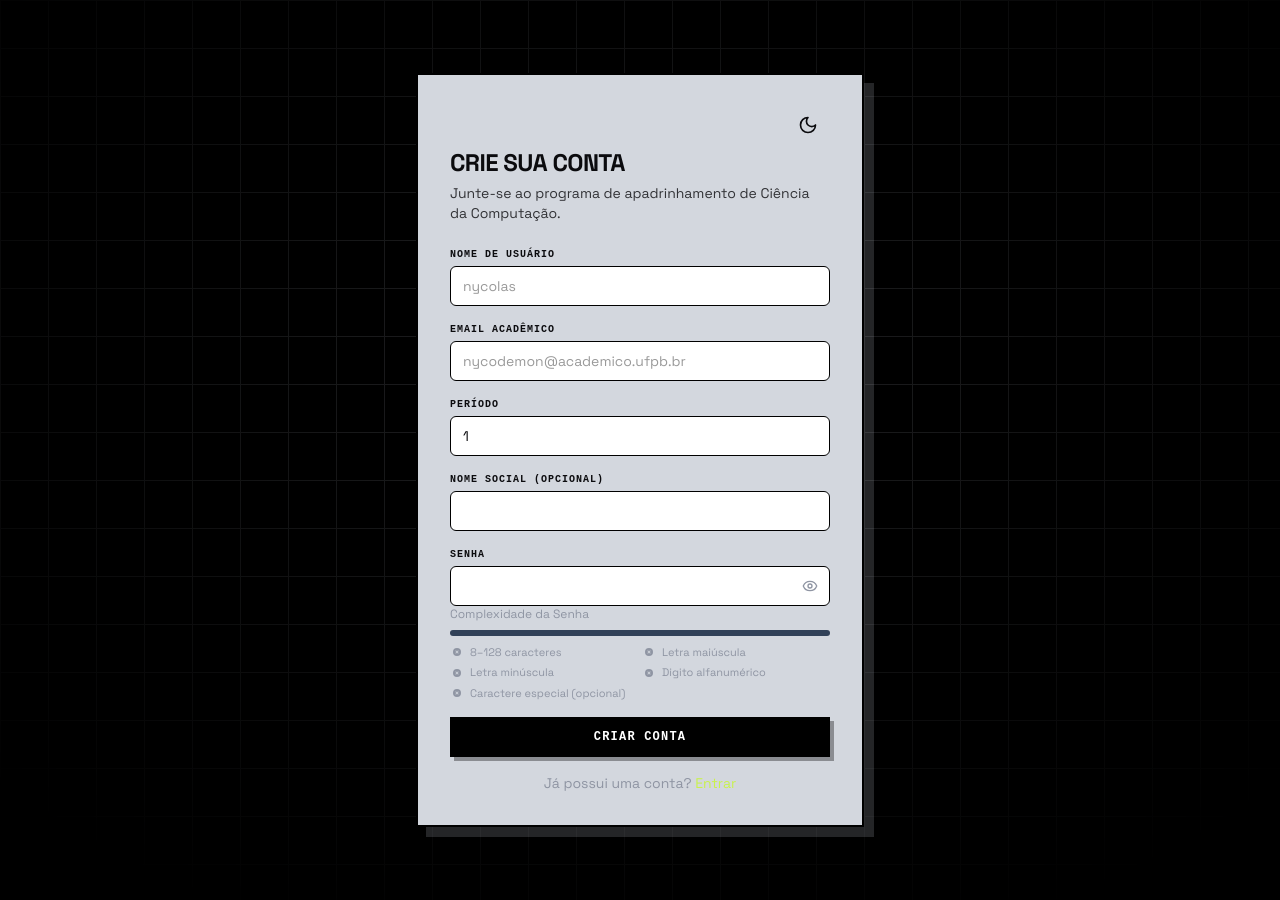
Test: RegisterPage › surfaces validation errors for an invalid email
Type "new_student" into the field labelled "Nome de usuário" at (640, 286), box [450,266,830,306]
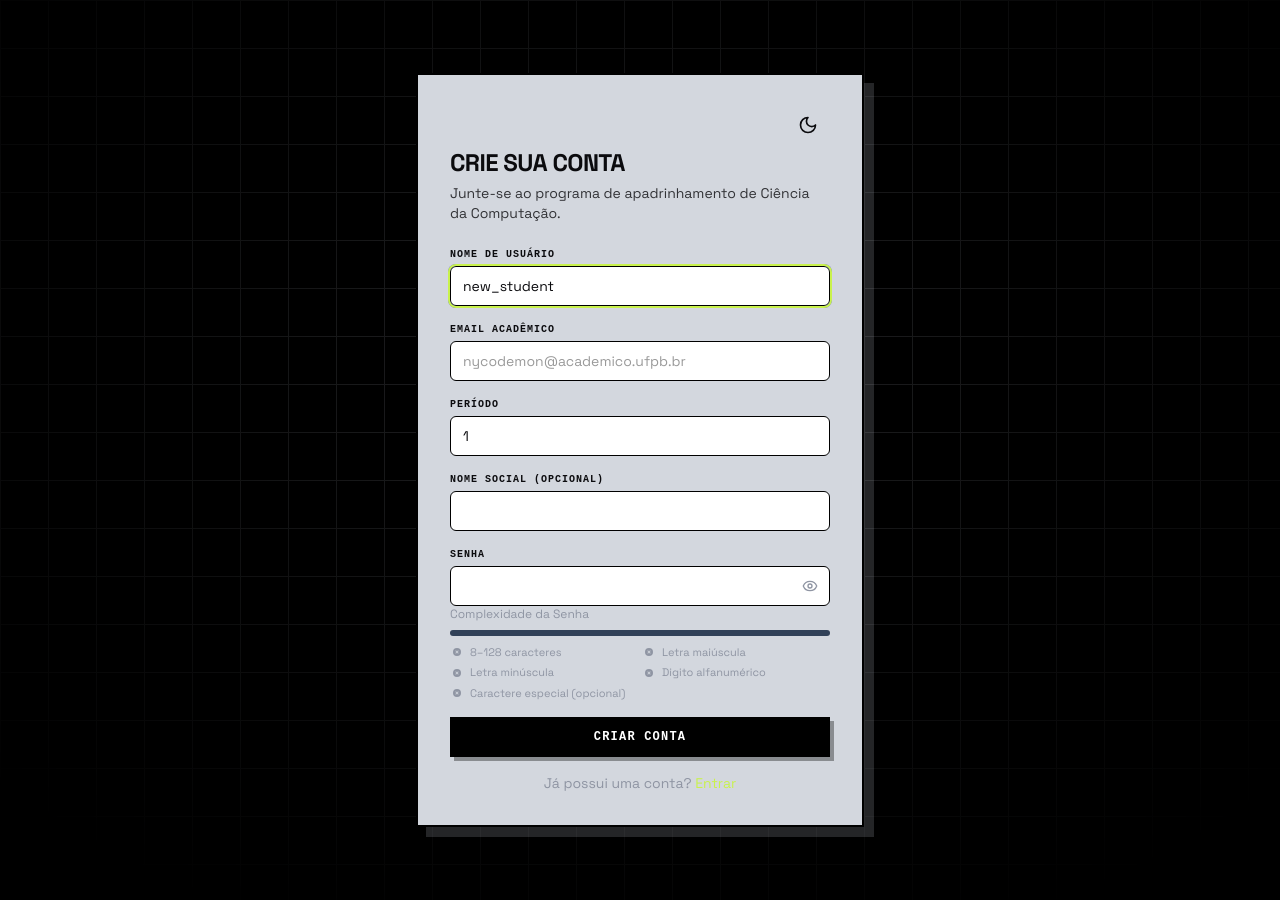
Type "not-an-email" into the field labelled "Email Acadêmico" at (640, 361), box [450,341,830,381]
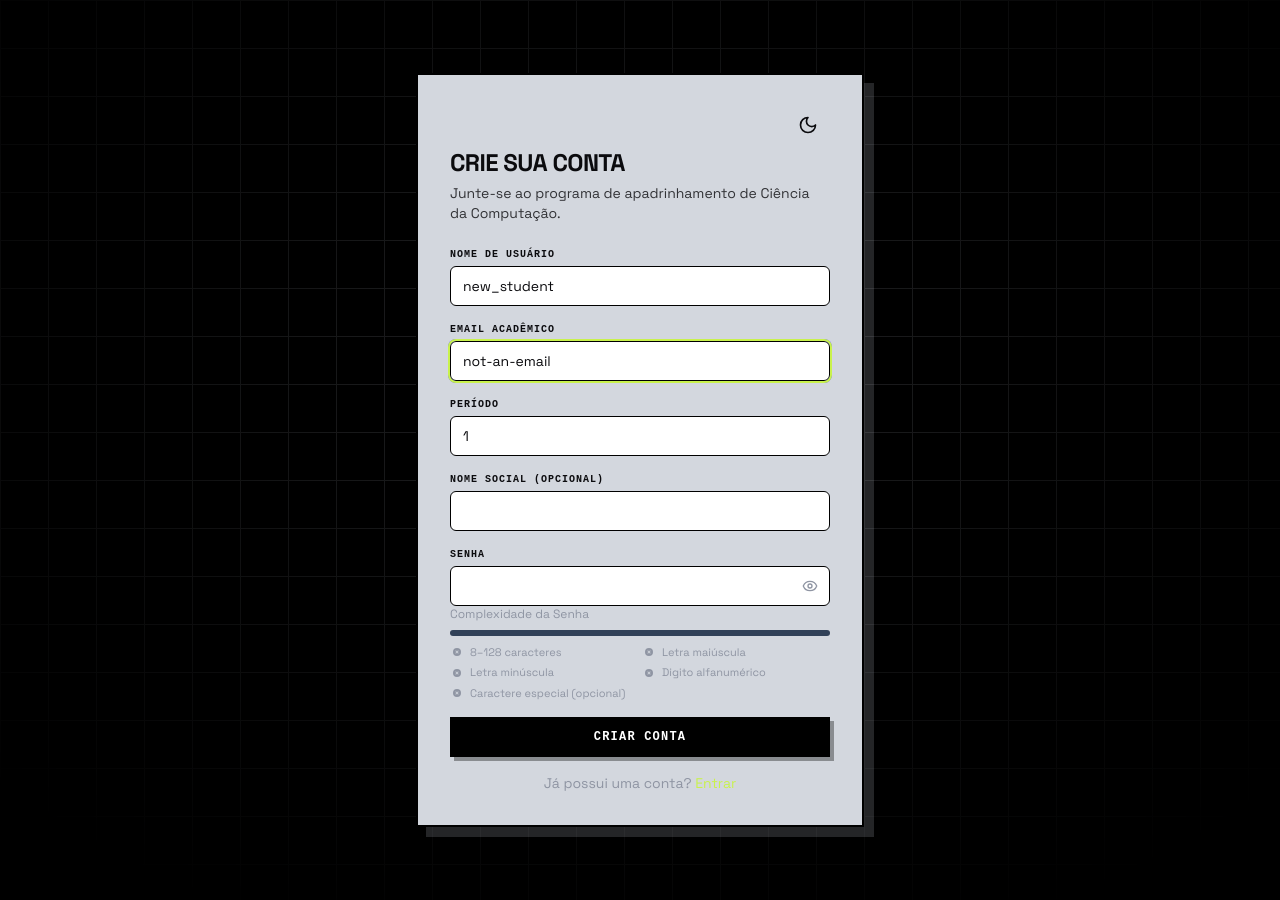
Type "short" into the password field labelled "Senha" at (640, 586), box [450,566,830,606]
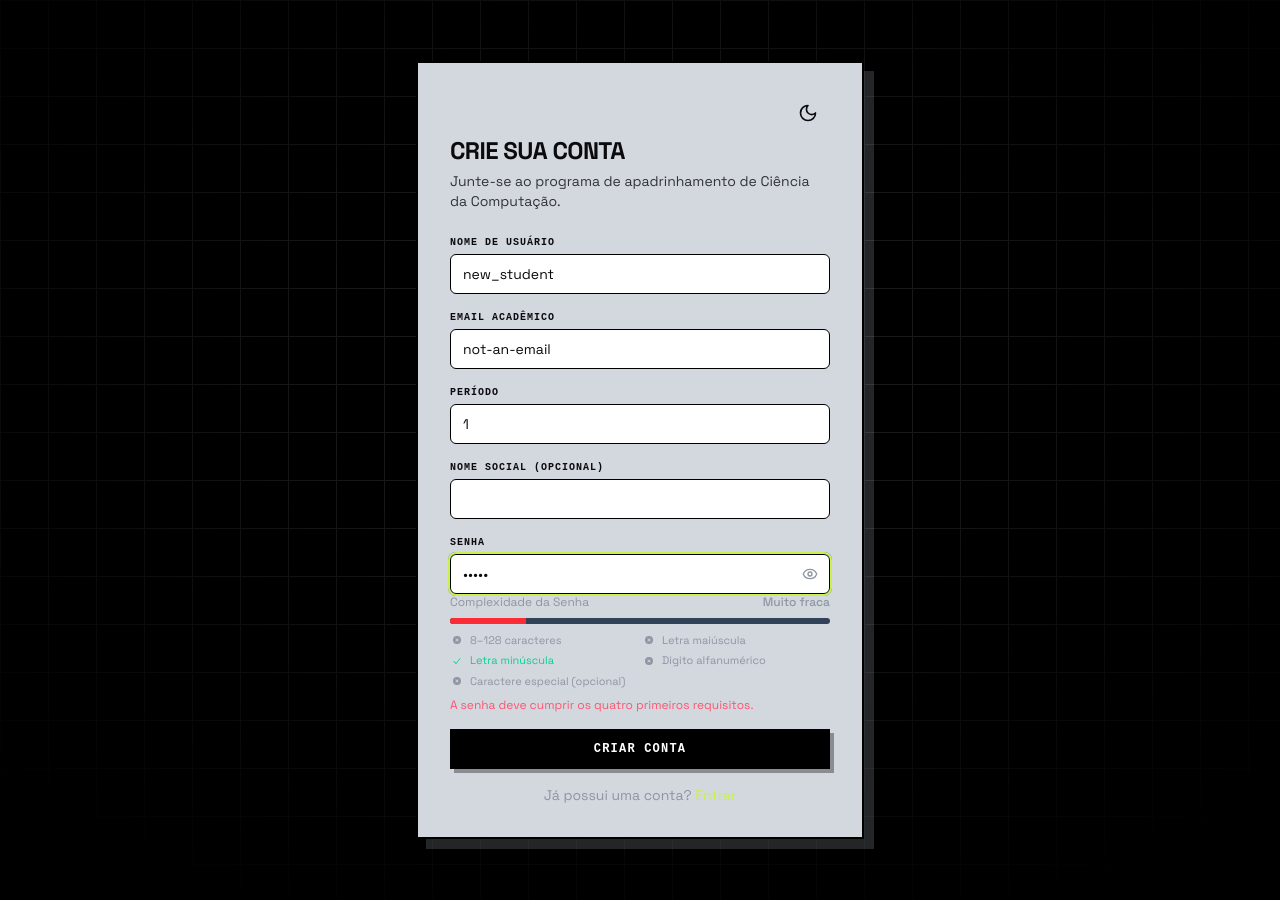
Click the button "Criar conta" at (640, 749), box [450,729,830,769]
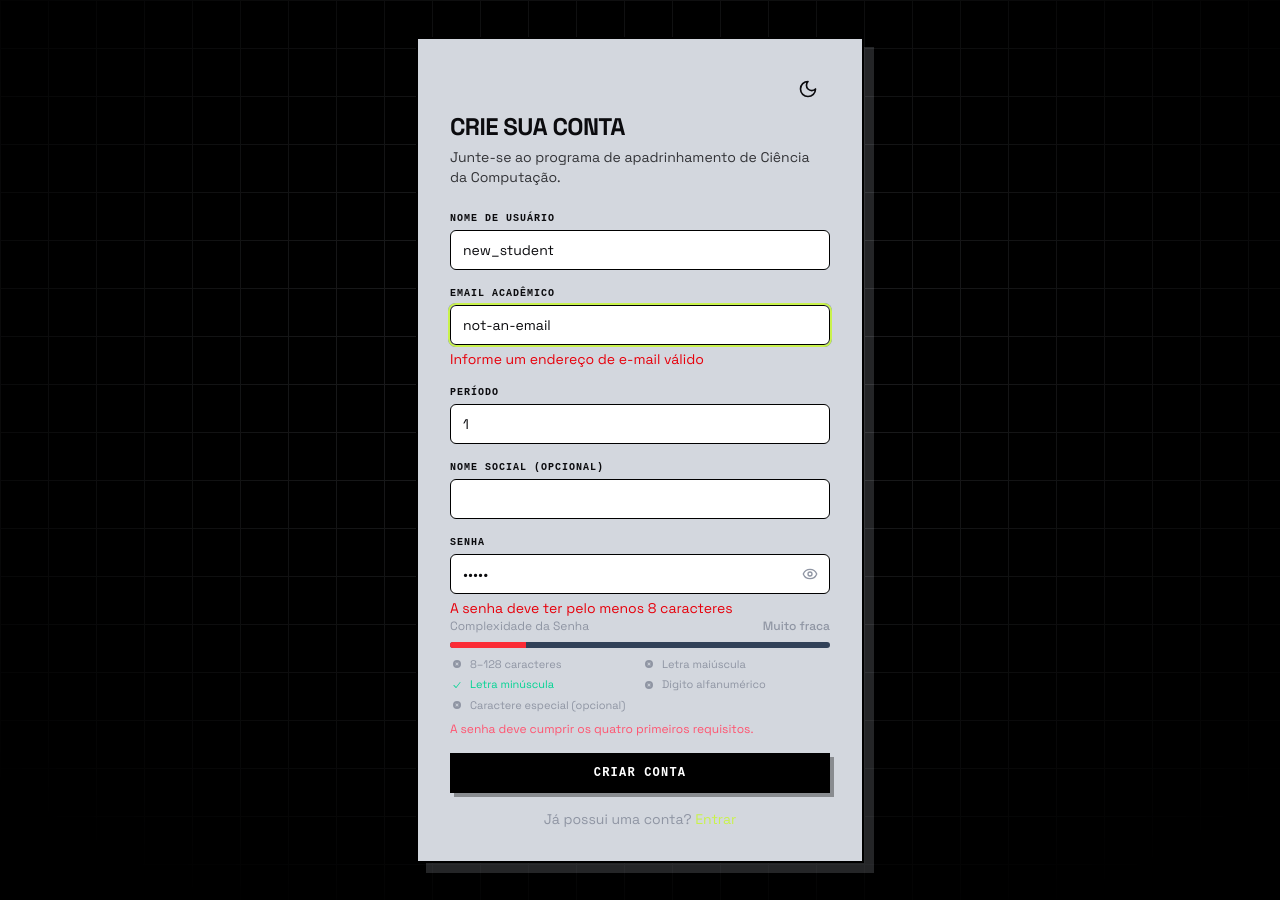
Result: the text "Informe um endereço de e-mail válido" is shown at [450,350,704,368]
